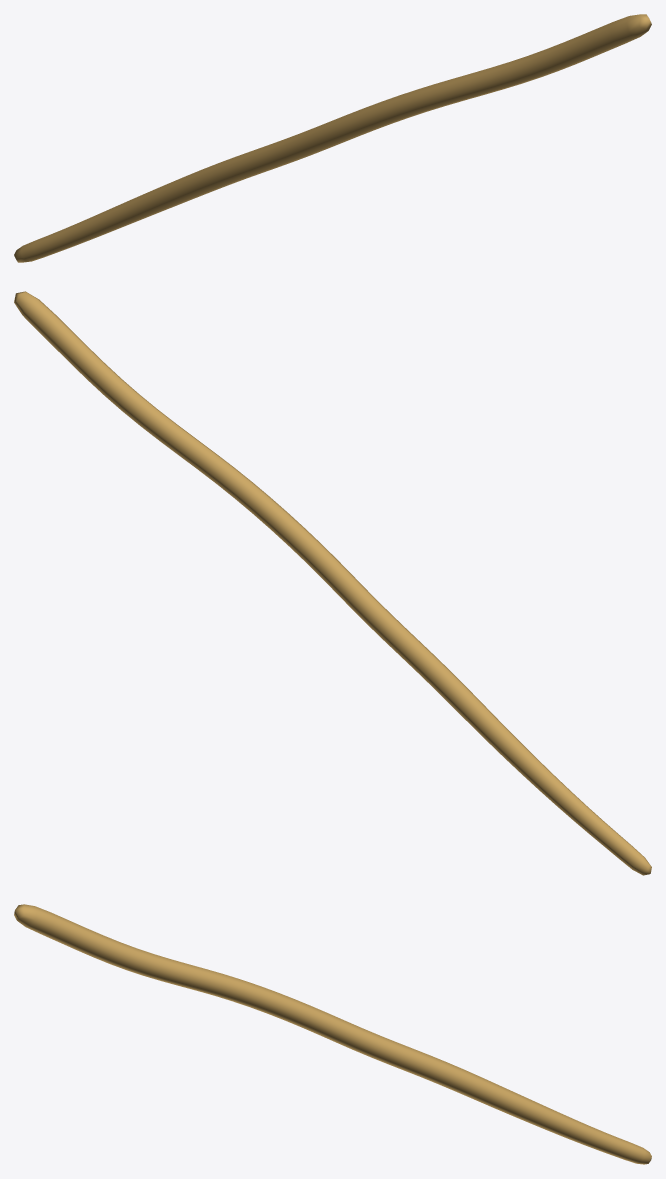
3 views of the same model, one above another, from view 1: azimuth 30°, elevation 25°; view 2: azimuth 210°, elevation 25°; view 3: azimuth 270°, elevation 25° (orthographic). The views are drawn at different scales.
Visible parts, largest first — view 1: 左侧茎突舌骨韧带; view 2: 左侧茎突舌骨韧带; view 3: 左侧茎突舌骨韧带.
Part boxes in pixels (x1,y1,x2,y2): 左侧茎突舌骨韧带: (14, 14, 651, 262); 左侧茎突舌骨韧带: (14, 291, 651, 875); 左侧茎突舌骨韧带: (14, 904, 651, 1164).
Size of the model in its own units: 0.0367 by 0.0473 by 0.0692.
